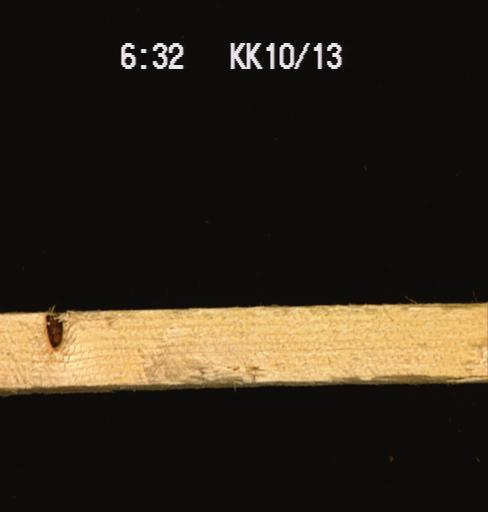wave: (306, 372, 468, 386)
